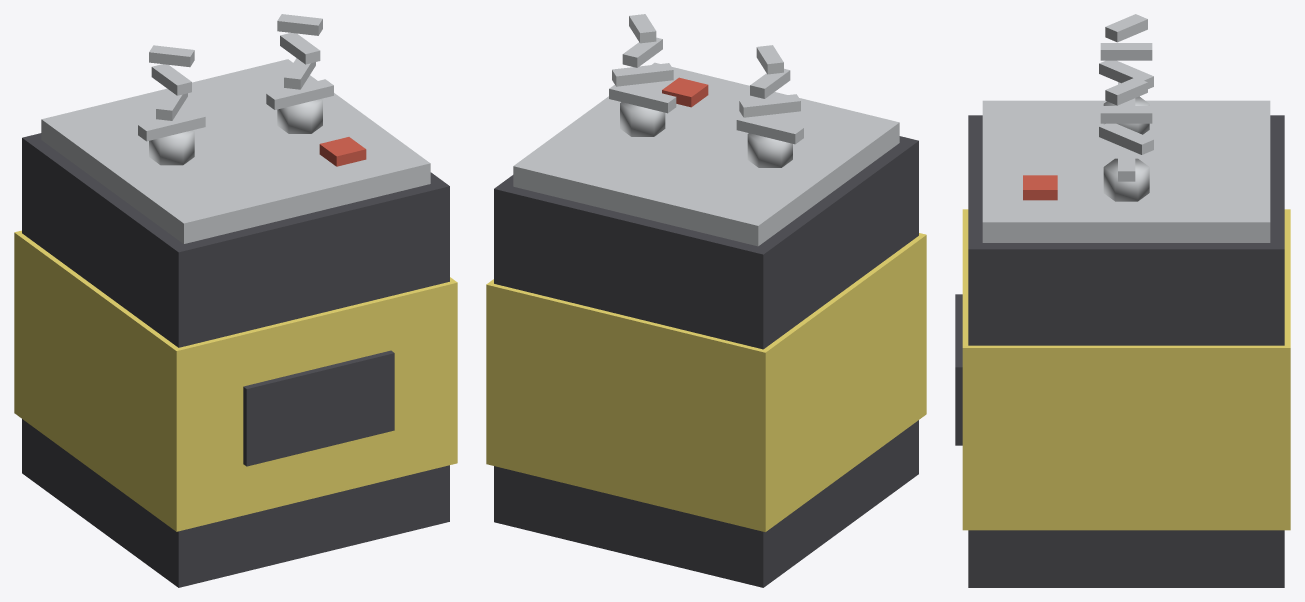
File: tool_battery.fbx
The picture shows the model from 3 angles, left to right: view 1: azimuth 30°, elevation 25°; view 2: azimuth 150°, elevation 25°; view 3: azimuth 270°, elevation 25°; orthographic projection.
Parts seen in each view (by area): view 1: tool_battery; view 2: tool_battery; view 3: tool_battery.
Boxes of the visible parts, x1,y1,x2,y2 form: tool_battery: (14, 14, 457, 587); tool_battery: (486, 14, 926, 587); tool_battery: (955, 14, 1290, 587).
Size of the model in its own units: 0.114 by 0.179 by 0.1165.
